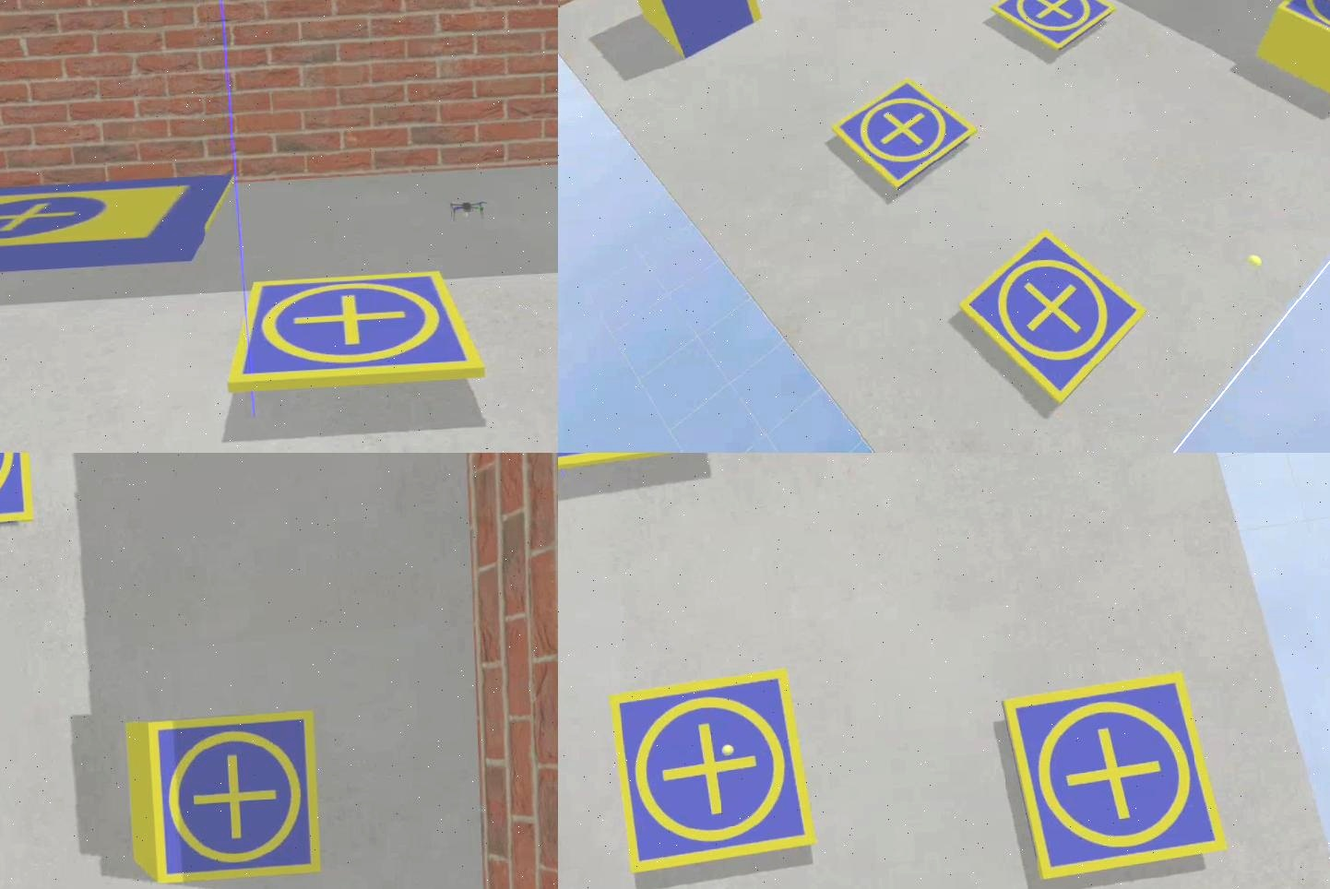large_base: (1, 172, 240, 286)
small_base: (1000, 669, 1229, 886), (610, 669, 818, 882), (953, 225, 1155, 413), (225, 269, 490, 395), (143, 709, 326, 889), (831, 75, 983, 195), (988, 1, 1118, 56), (1275, 1, 1330, 65)
